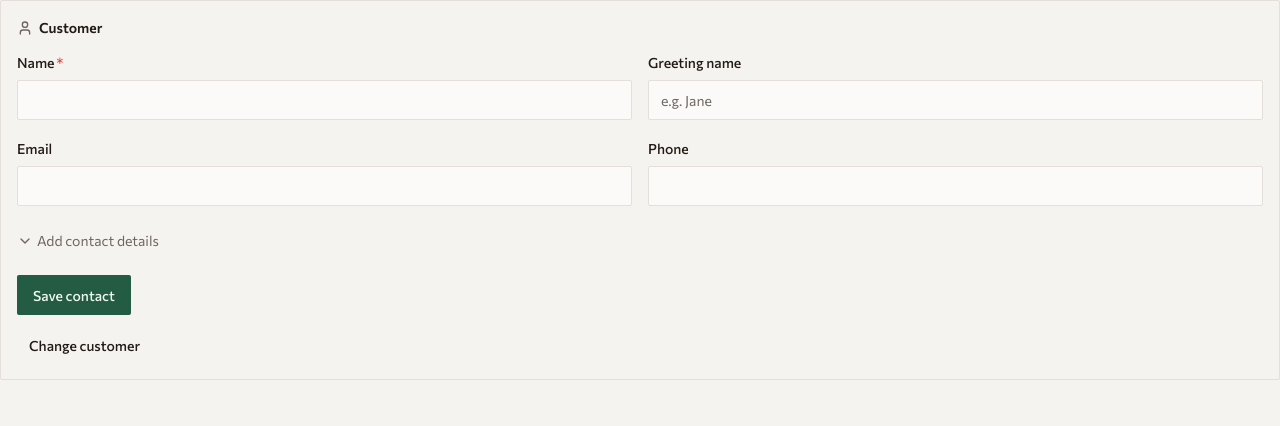
it: AssignedContactCard change/confirm state machine › asks to discard first when the form is dirty
Click the button "Change customer".
click(85, 345)  # box [17,327,152,363]
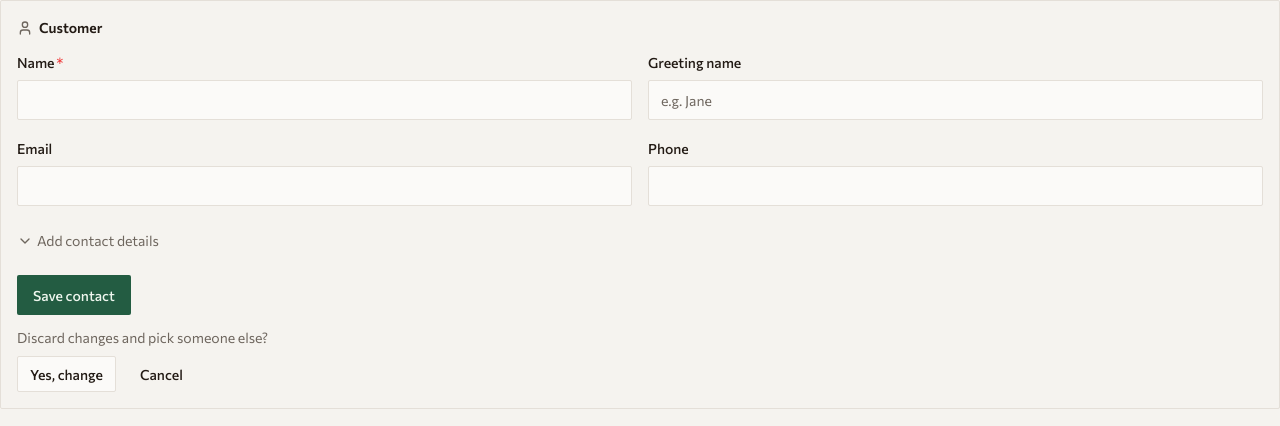
Result: the text "Discard changes and pick someone else?" is shown at [17,329,268,346]
